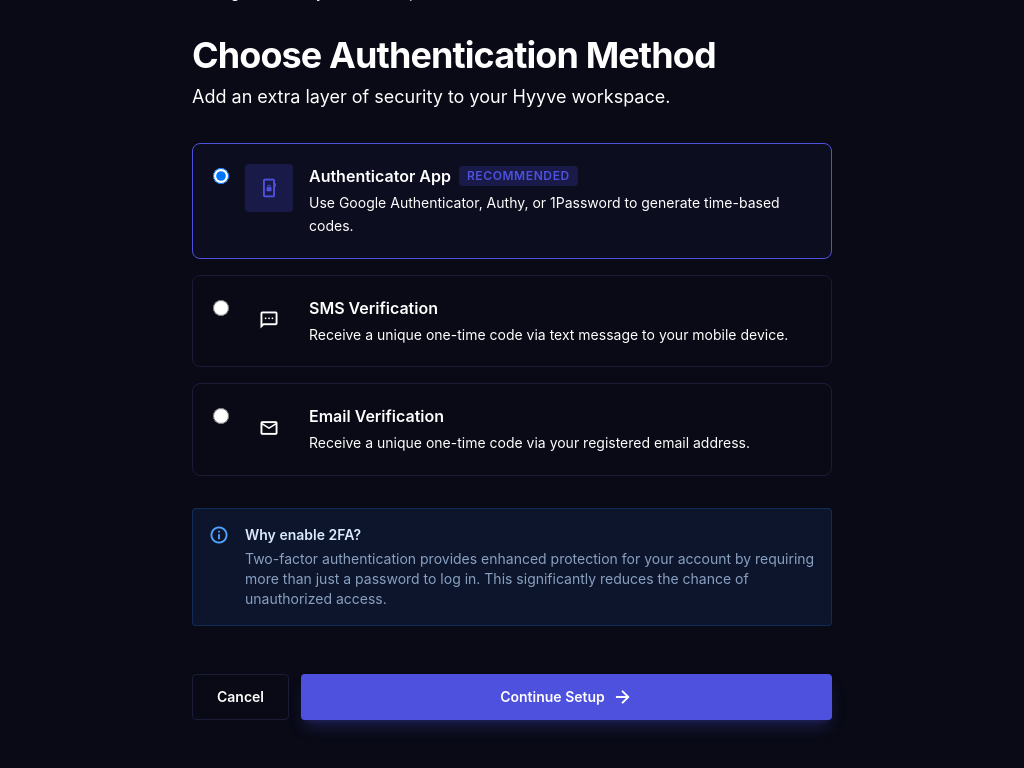
MfaMethodSelection › Cancel Button and Skip Warning Modal › clicking "Return to Setup" closes the modal
The width and height of the screenshot is (1024, 768).
(page scrolled)
Click the button "Cancel". click: (240, 697)
box: [192,674,289,720]
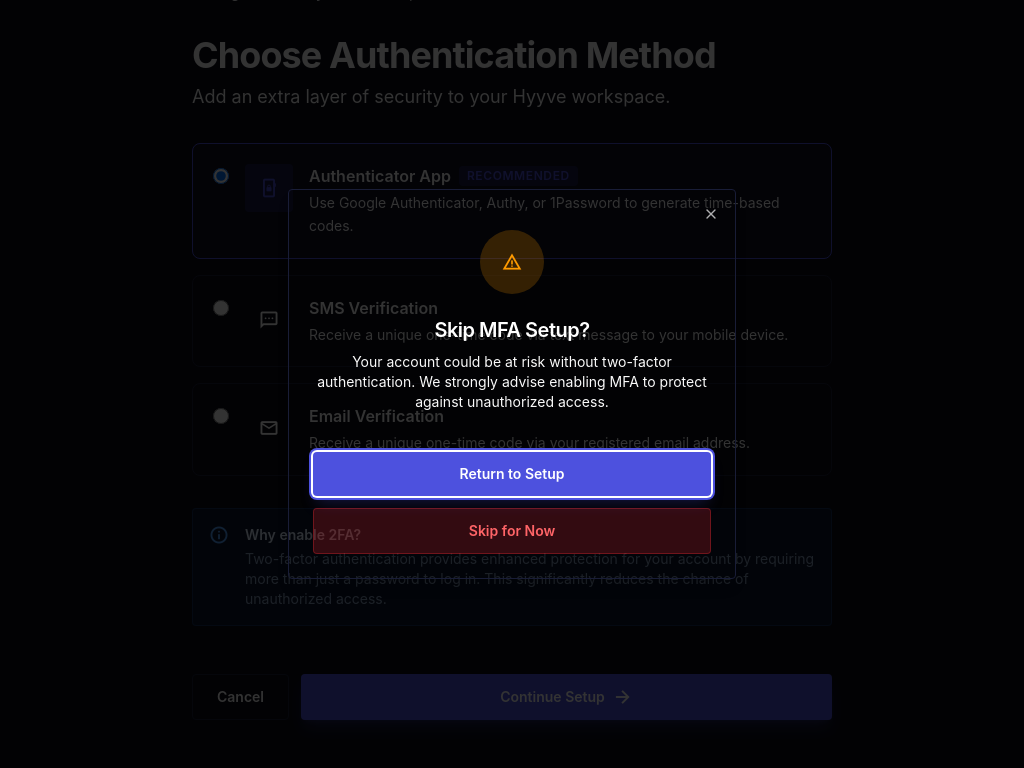
Now the dialog is shown, box [288,189,736,579]
Click the button "Return to Setup". click: (512, 474)
box: [313,452,711,496]
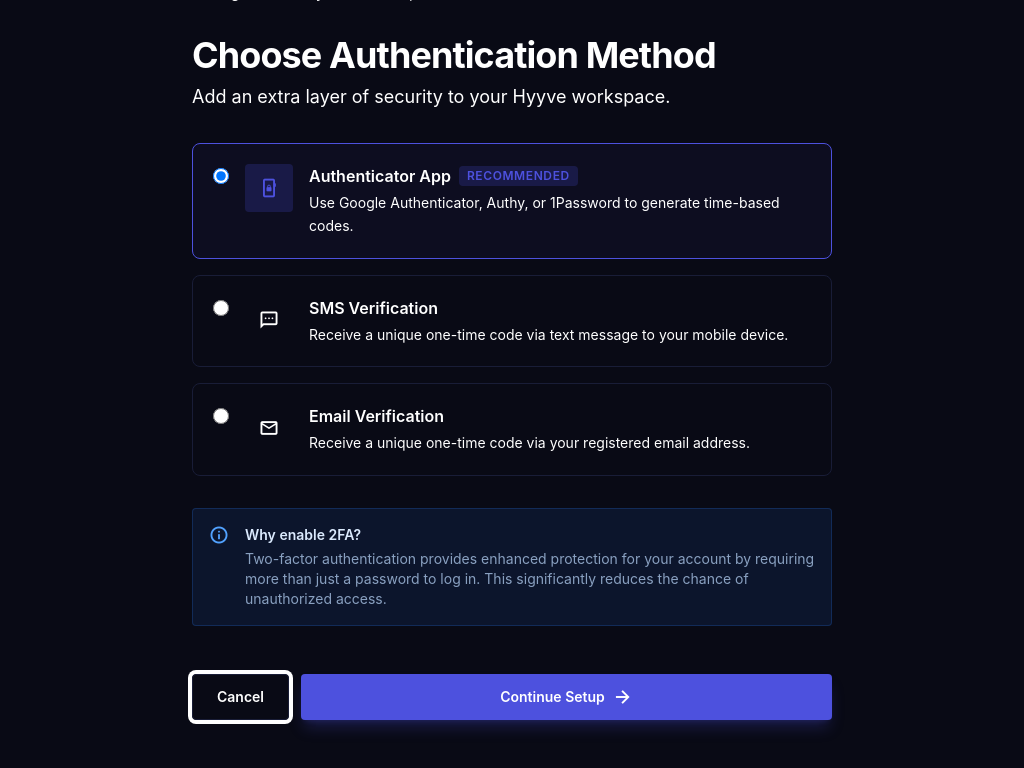
Now the dialog is gone
